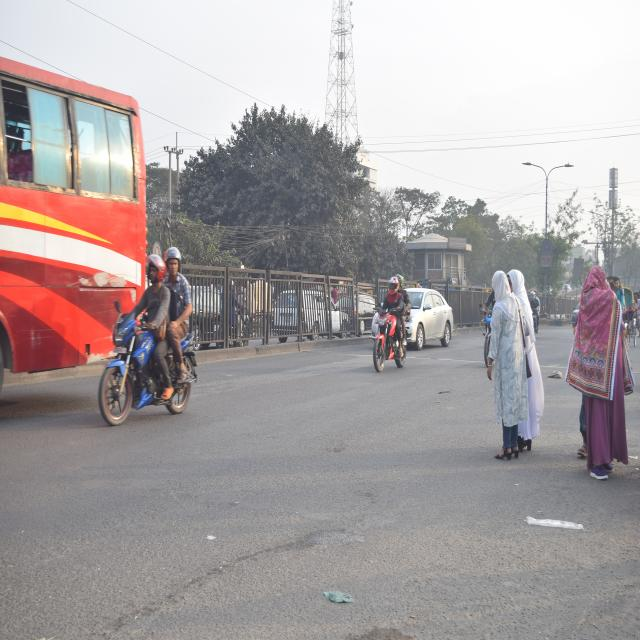bus: (0, 52, 144, 375)
car: (406, 274, 455, 359)
motorbike: (92, 320, 194, 434), (371, 301, 413, 392)
